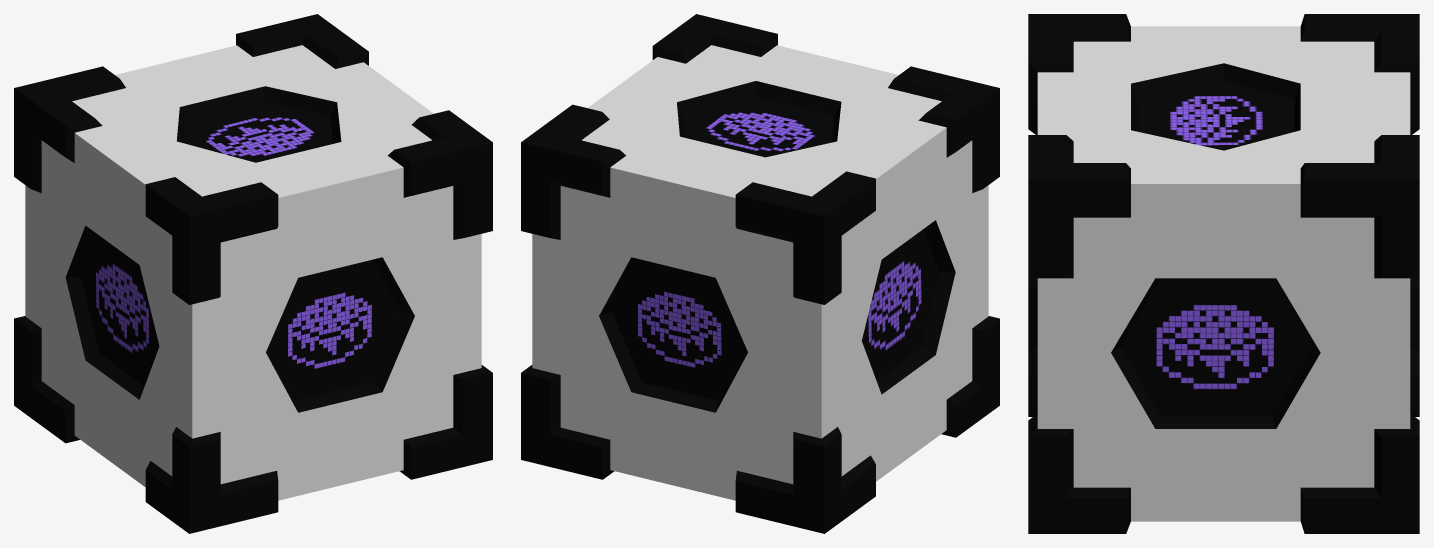
File: Companioncube_UV.fbx
3 views of the same model, side by side, from view 1: azimuth 30°, elevation 25°; view 2: azimuth 150°, elevation 25°; view 3: azimuth 270°, elevation 25° (orthographic). The views are drawn at different scales.
Parts seen in each view (by area): view 1: pCube1; view 2: pCube1; view 3: pCube1.
Boxes of the visible parts, bbox=[...] form: pCube1: bbox=[14, 14, 492, 533]; pCube1: bbox=[521, 14, 999, 533]; pCube1: bbox=[1028, 14, 1419, 533].
Size of the model in its own units: 105 by 105 by 105.
3 materials, 1 textured.
